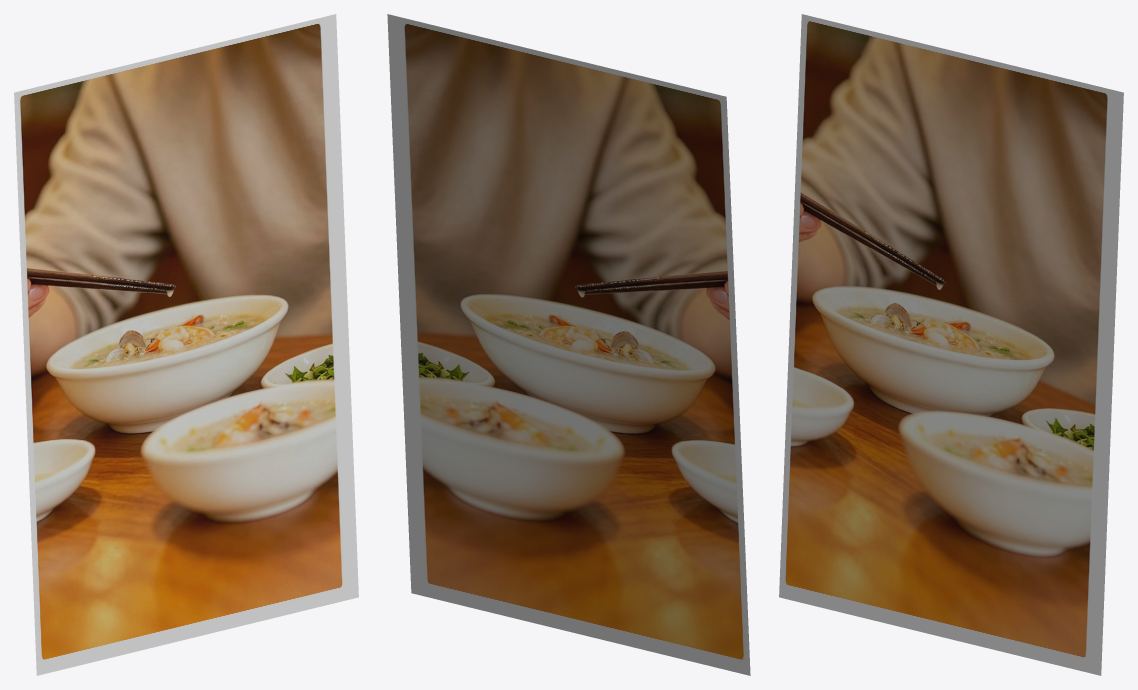
The picture shows the model from 3 angles, left to right: view 1: azimuth 30°, elevation 25°; view 2: azimuth 150°, elevation 25°; view 3: azimuth 330°, elevation 25°; orthographic projection. The views are drawn at different scales.
Visible parts, largest first — view 1: 平面; view 2: 平面; view 3: 平面.
Boxes of the visible parts, x1,y1,x2,y2 form: 平面: [14, 14, 358, 675]; 平面: [387, 14, 750, 675]; 平面: [779, 14, 1123, 675].
Size of the model in its own units: 4.14 by 6.97 by 0.5059.
Materials: 1 (1 with a texture image).
